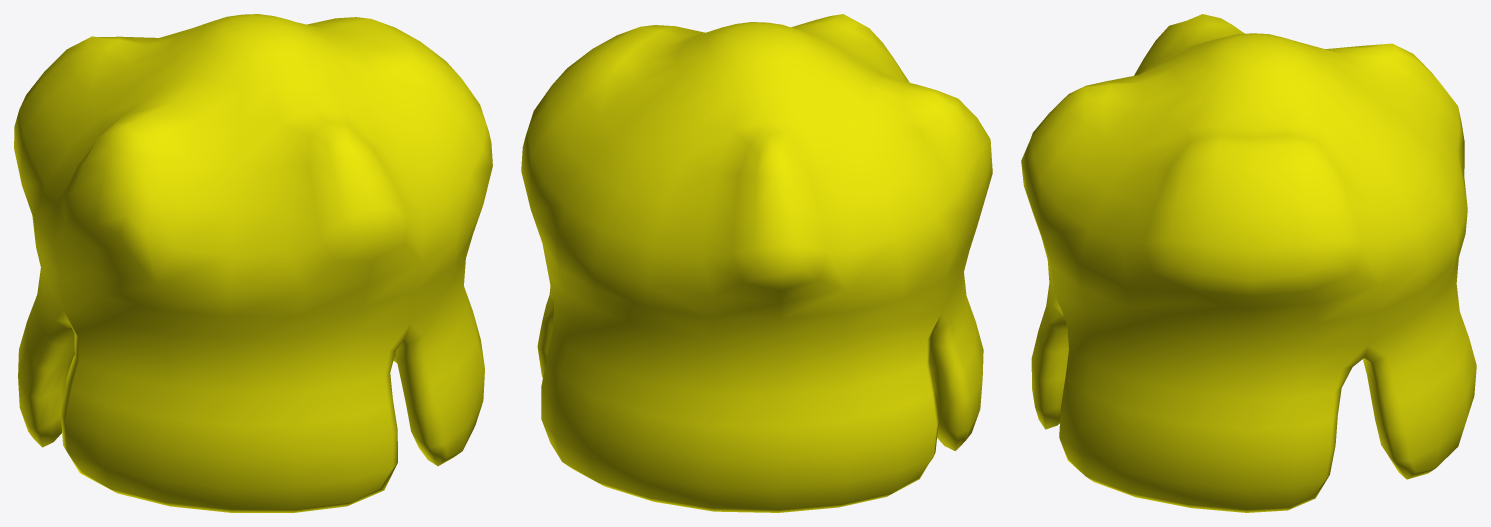
Rendered from PopCorn_Continer_Kernel.fbx.
3 renders of one model, left to right at view 1: azimuth 30°, elevation 25°; view 2: azimuth 150°, elevation 25°; view 3: azimuth 270°, elevation 25°, orthographic. The views are drawn at different scales.
Visible parts, largest first — view 1: Pop_Corn_Kernel2; view 2: Pop_Corn_Kernel2; view 3: Pop_Corn_Kernel2.
Boxes of the visible parts, box(x1,y1,x2,y2) form: Pop_Corn_Kernel2: box(14, 14, 492, 512); Pop_Corn_Kernel2: box(521, 14, 992, 512); Pop_Corn_Kernel2: box(1021, 14, 1476, 512).
Size of the model in its own units: 4.35 by 3.96 by 4.26.
